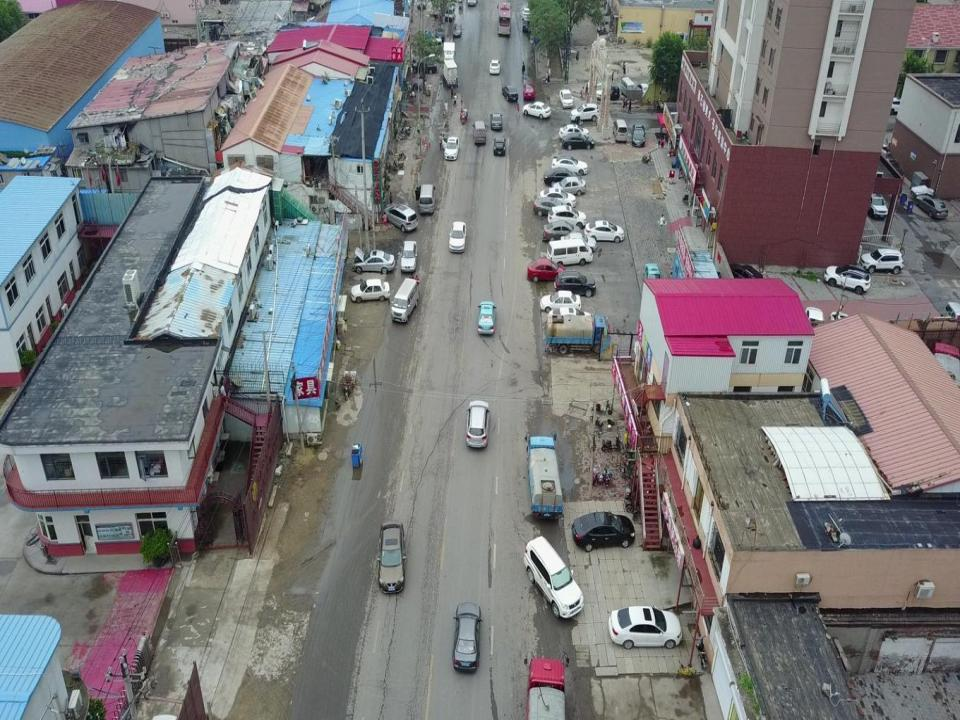bus: (496, 3, 512, 37)
car: (610, 604, 685, 650), (570, 512, 638, 552), (452, 602, 482, 673), (378, 522, 406, 594), (824, 264, 870, 296), (554, 269, 596, 297), (861, 246, 903, 274), (353, 247, 395, 274), (466, 401, 490, 447), (548, 204, 588, 230), (726, 262, 762, 290), (914, 190, 948, 219), (540, 290, 580, 314), (351, 279, 390, 303), (527, 257, 567, 280), (585, 220, 624, 243), (542, 222, 582, 243), (559, 232, 597, 254), (539, 187, 577, 208), (543, 166, 582, 186), (532, 197, 568, 218), (552, 155, 588, 176), (549, 307, 590, 325), (552, 176, 587, 197), (804, 304, 824, 339), (476, 302, 496, 335), (830, 310, 852, 340), (866, 189, 887, 219), (560, 132, 594, 150), (642, 262, 662, 292), (522, 100, 552, 120), (449, 221, 467, 252), (569, 104, 598, 122), (559, 124, 591, 139), (401, 240, 416, 271), (411, 57, 437, 74), (442, 137, 460, 159), (588, 81, 606, 100), (632, 123, 646, 147), (501, 84, 519, 102), (558, 88, 574, 108), (606, 82, 620, 100), (636, 83, 652, 98), (490, 113, 503, 131), (493, 138, 506, 154), (522, 85, 536, 99), (521, 17, 532, 32), (452, 22, 462, 38), (489, 60, 500, 74), (435, 26, 445, 40), (522, 8, 532, 20), (416, 0, 426, 9), (466, 0, 478, 6)
truck: (522, 430, 565, 521), (524, 647, 572, 720), (547, 312, 609, 354), (443, 59, 458, 87), (443, 42, 455, 66)
van: (526, 535, 583, 619), (390, 278, 420, 324), (547, 239, 592, 268), (383, 204, 418, 231), (415, 183, 435, 214), (472, 121, 487, 145), (944, 303, 960, 325), (612, 120, 628, 141), (620, 77, 636, 96), (444, 4, 455, 21)
